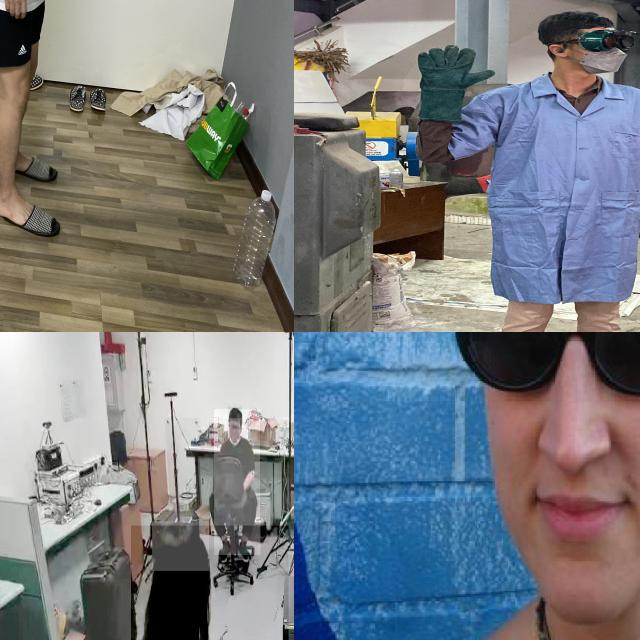Sandals: (0, 183, 60, 238), (14, 156, 58, 183)
face_mask: (565, 26, 638, 74)
face_nomask: (465, 332, 640, 547), (228, 420, 242, 440)
glasses: (453, 332, 640, 395), (538, 25, 640, 53)
hand_glove: (405, 41, 504, 99)
head_nohelmet: (152, 521, 210, 572), (533, 7, 623, 38), (228, 406, 242, 419)
person: (375, 332, 640, 640), (398, 2, 640, 332), (131, 525, 289, 640), (214, 409, 260, 555)
shoes: (237, 533, 252, 567), (218, 534, 231, 566)
